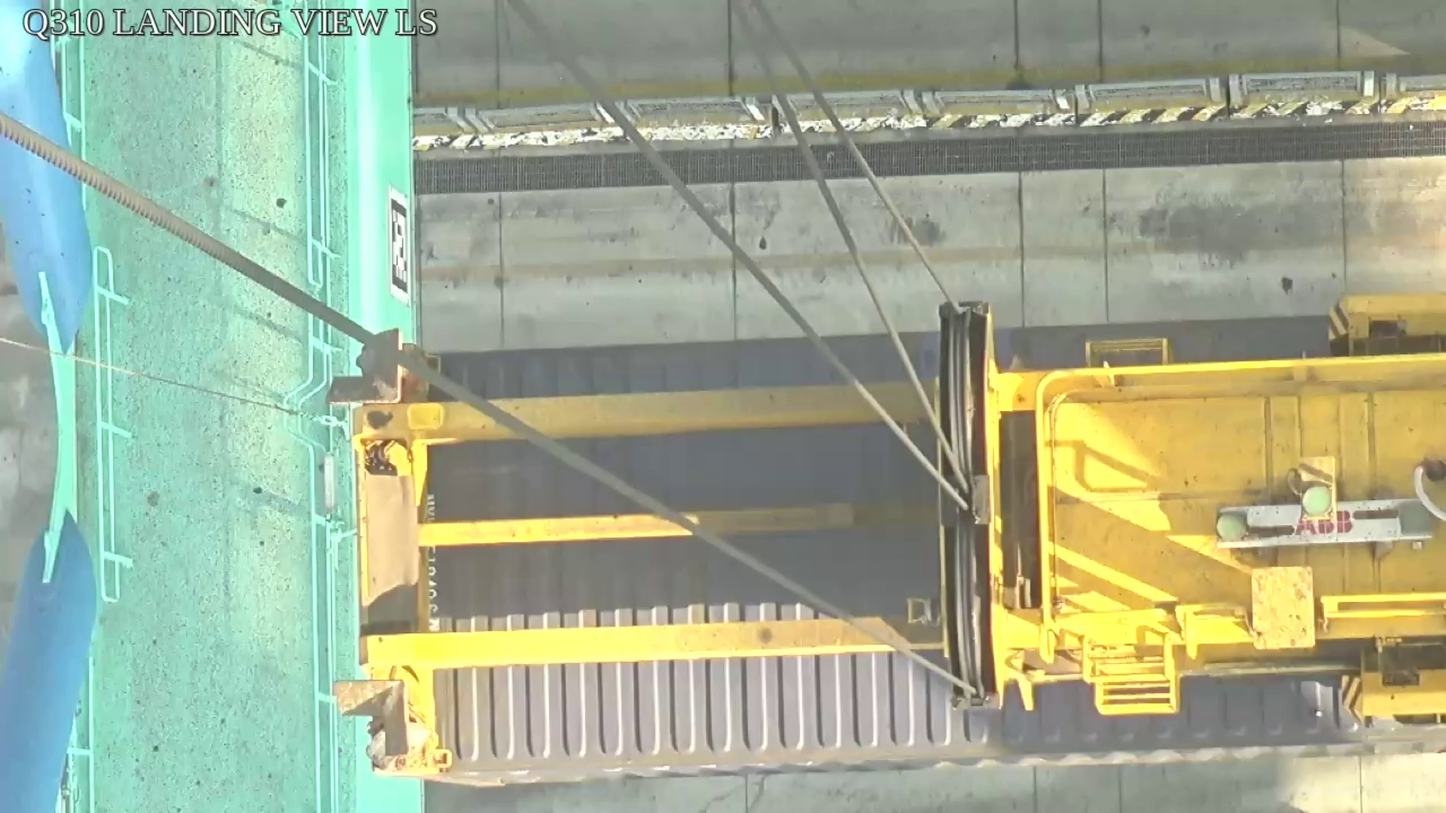aa: (937, 303, 1005, 708)
